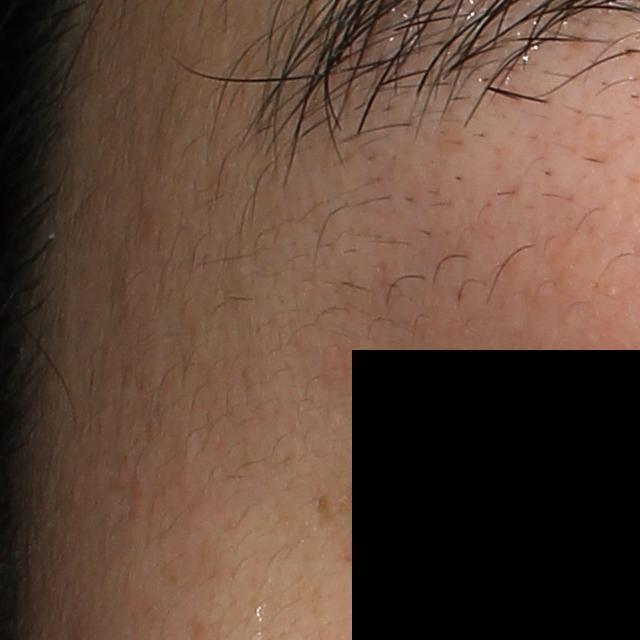melasma: (312, 491, 339, 529)
